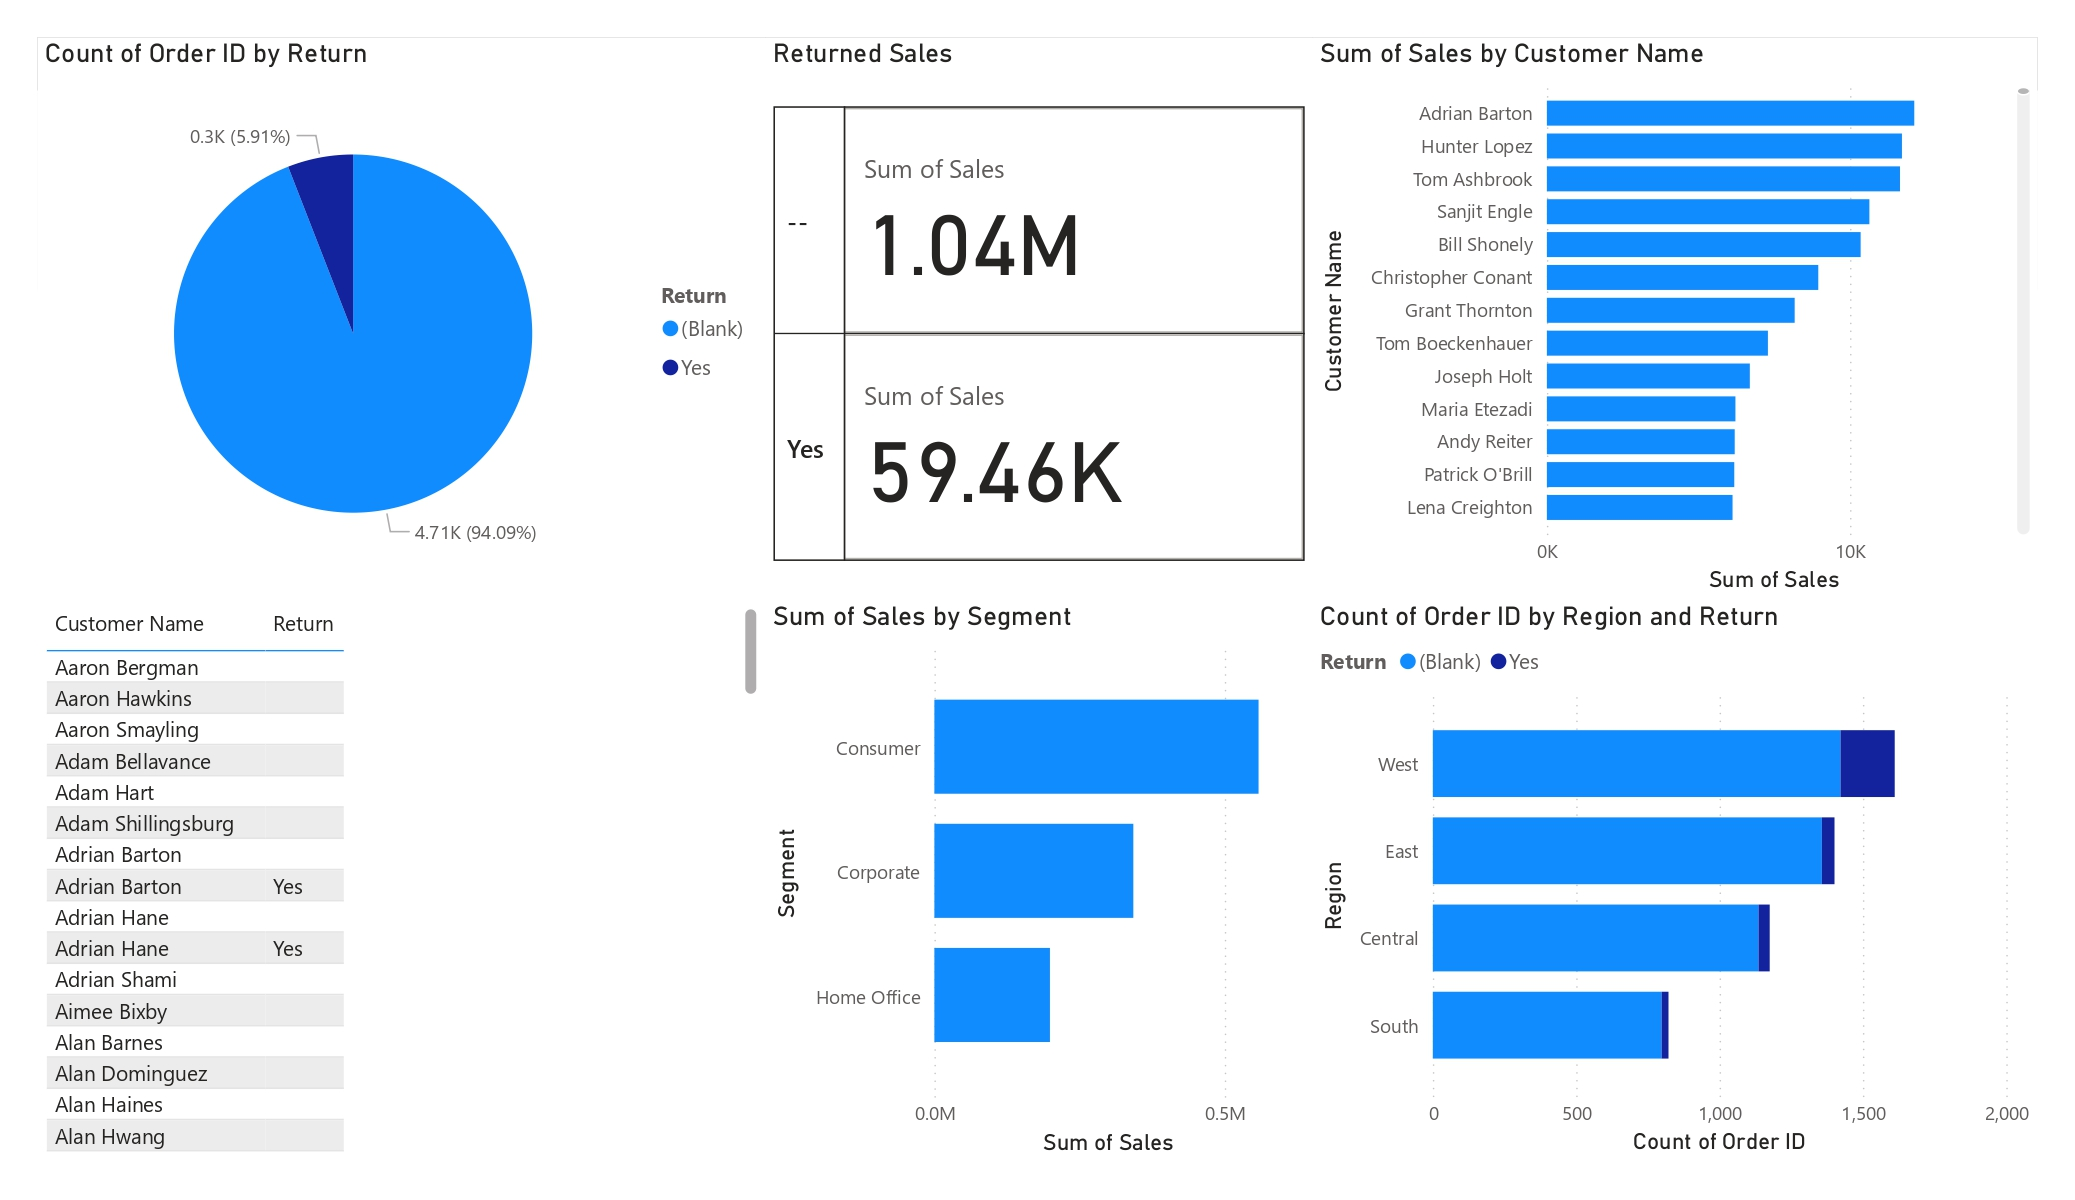

The dashboard page shown, as its layout file describes it:
{"tool":"powerbi","page":{"name":"Page 3","canvas":[1280,720],"ordinal":2},"visuals":[{"type":"barChart","fields":{"Category":["Orders.Customer Name"],"Y":["Sum(Orders.Sales)"]},"box":[815.5,0,464.3,360],"z":0},{"type":"barChart","fields":{"Category":["Orders.Segment"],"Y":["Sum(Orders.Sales)"]},"box":[465.8,360,349.7,360],"z":1000},{"type":"pieChart","fields":{"Category":["Returns.Return"],"Y":["CountNonNull(Orders.Order ID)"]},"box":[0,0,465.8,360],"z":2000},{"type":"barChart","fields":{"Category":["Orders.Region"],"Series":["Returns.Return"],"Y":["CountNonNull(Orders.Order ID)"]},"box":[815.5,360,464.3,360],"z":3000},{"type":"tableEx","fields":{"Values":["Orders.Customer Name","Returns.Return"]},"box":[0,360,465.8,360],"z":4000},{"type":"cardVisual","title":"Returned Sales","fields":{"Data":["Sum(Orders.Sales)"],"Rows":["Returns.Return"]},"box":[465.8,0,349.7,360],"z":5000}]}

Visuals, with their boxes on the page's 1280x720 design canvas (x1, y1, x2, y2). These are canvas units, not pixel positions in the 2075x1200 screenshot, which may show the page scaled, cropped or inside an application window:
barChart - Orders.Customer Name x Sum(Orders.Sales): [816, 0, 1280, 360]
barChart - Orders.Segment x Sum(Orders.Sales): [466, 360, 816, 720]
pieChart - Returns.Return x CountNonNull(Orders.Order ID): [0, 0, 466, 360]
barChart - Orders.Region x Returns.Return: [816, 360, 1280, 720]
tableEx - Orders.Customer Name x Returns.Return: [0, 360, 466, 720]
"Returned Sales" cardVisual: [466, 0, 816, 360]
